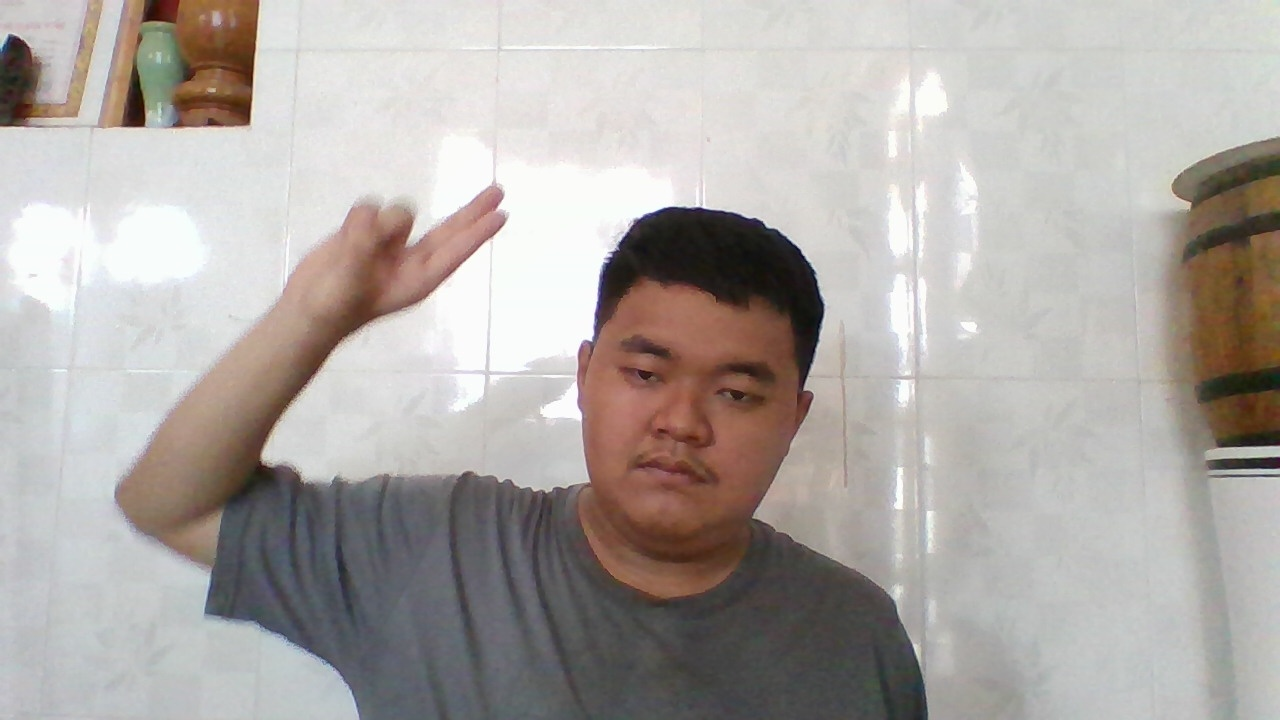U: (284, 178, 514, 318)
